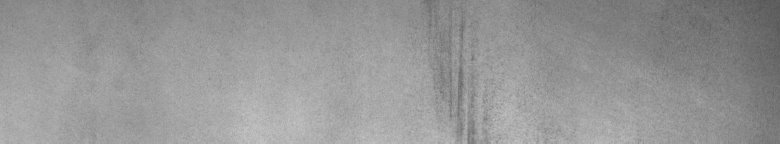ka: (445, 22, 488, 136)
